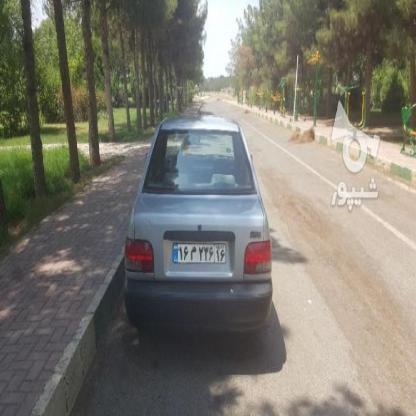licence: (171, 241, 228, 265)
